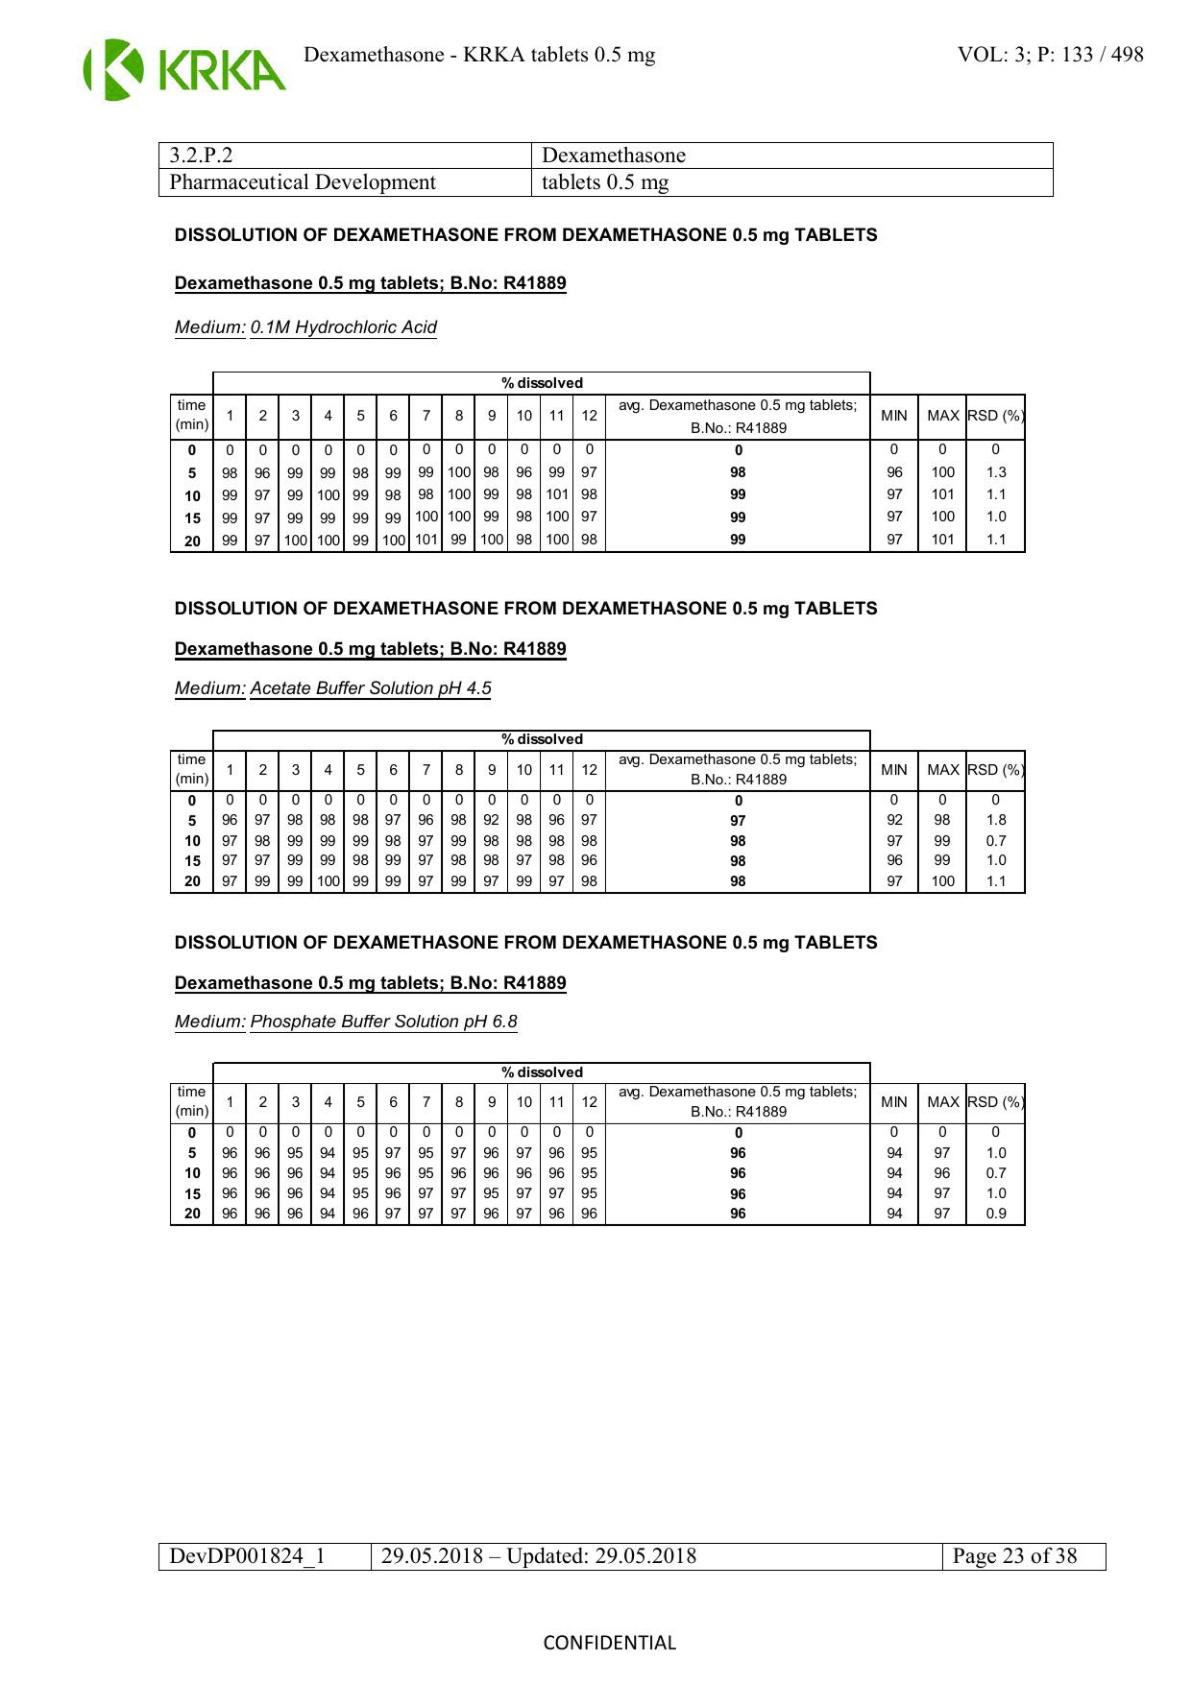full_lined: (157, 141, 1055, 199)
merged_cells: (169, 370, 1027, 554), (169, 1061, 1027, 1228), (169, 729, 1026, 895)
